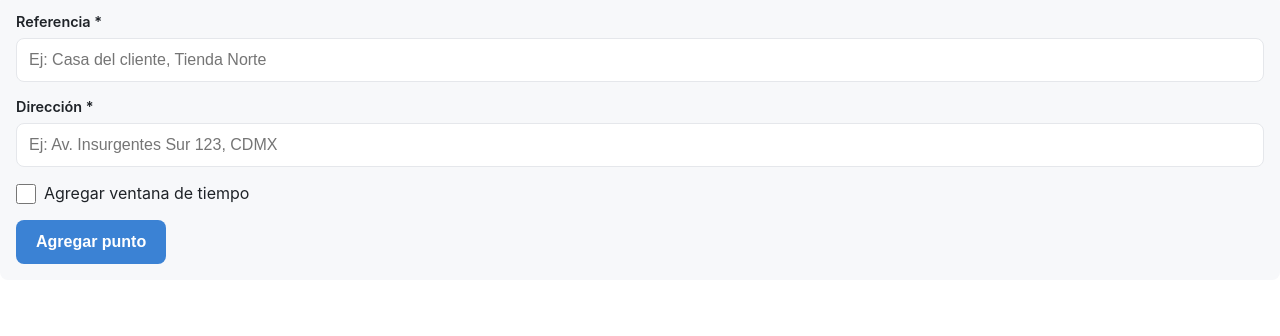
DeliveryPointForm › muestra error si hay referencia pero no hay dirección
Type "Mi cliente" into the field labelled "Referencia *" at (640, 60), box [16,38,1264,82]
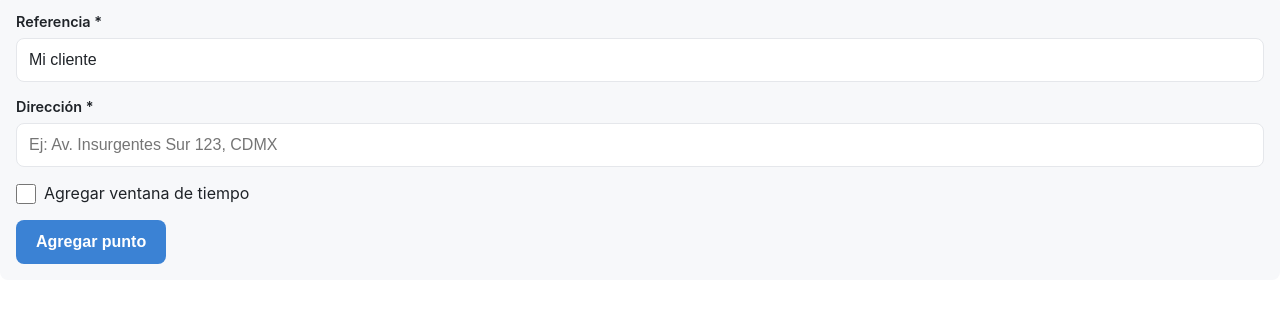
Click the button "Agregar punto" at (91, 242), box [16,220,166,264]
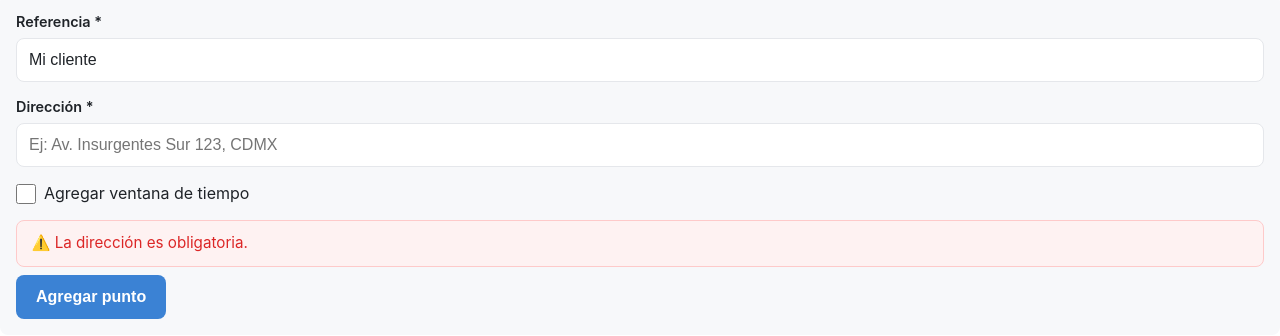
Expected: the message shows "dirección es obligatoria", [55,234,248,252]
